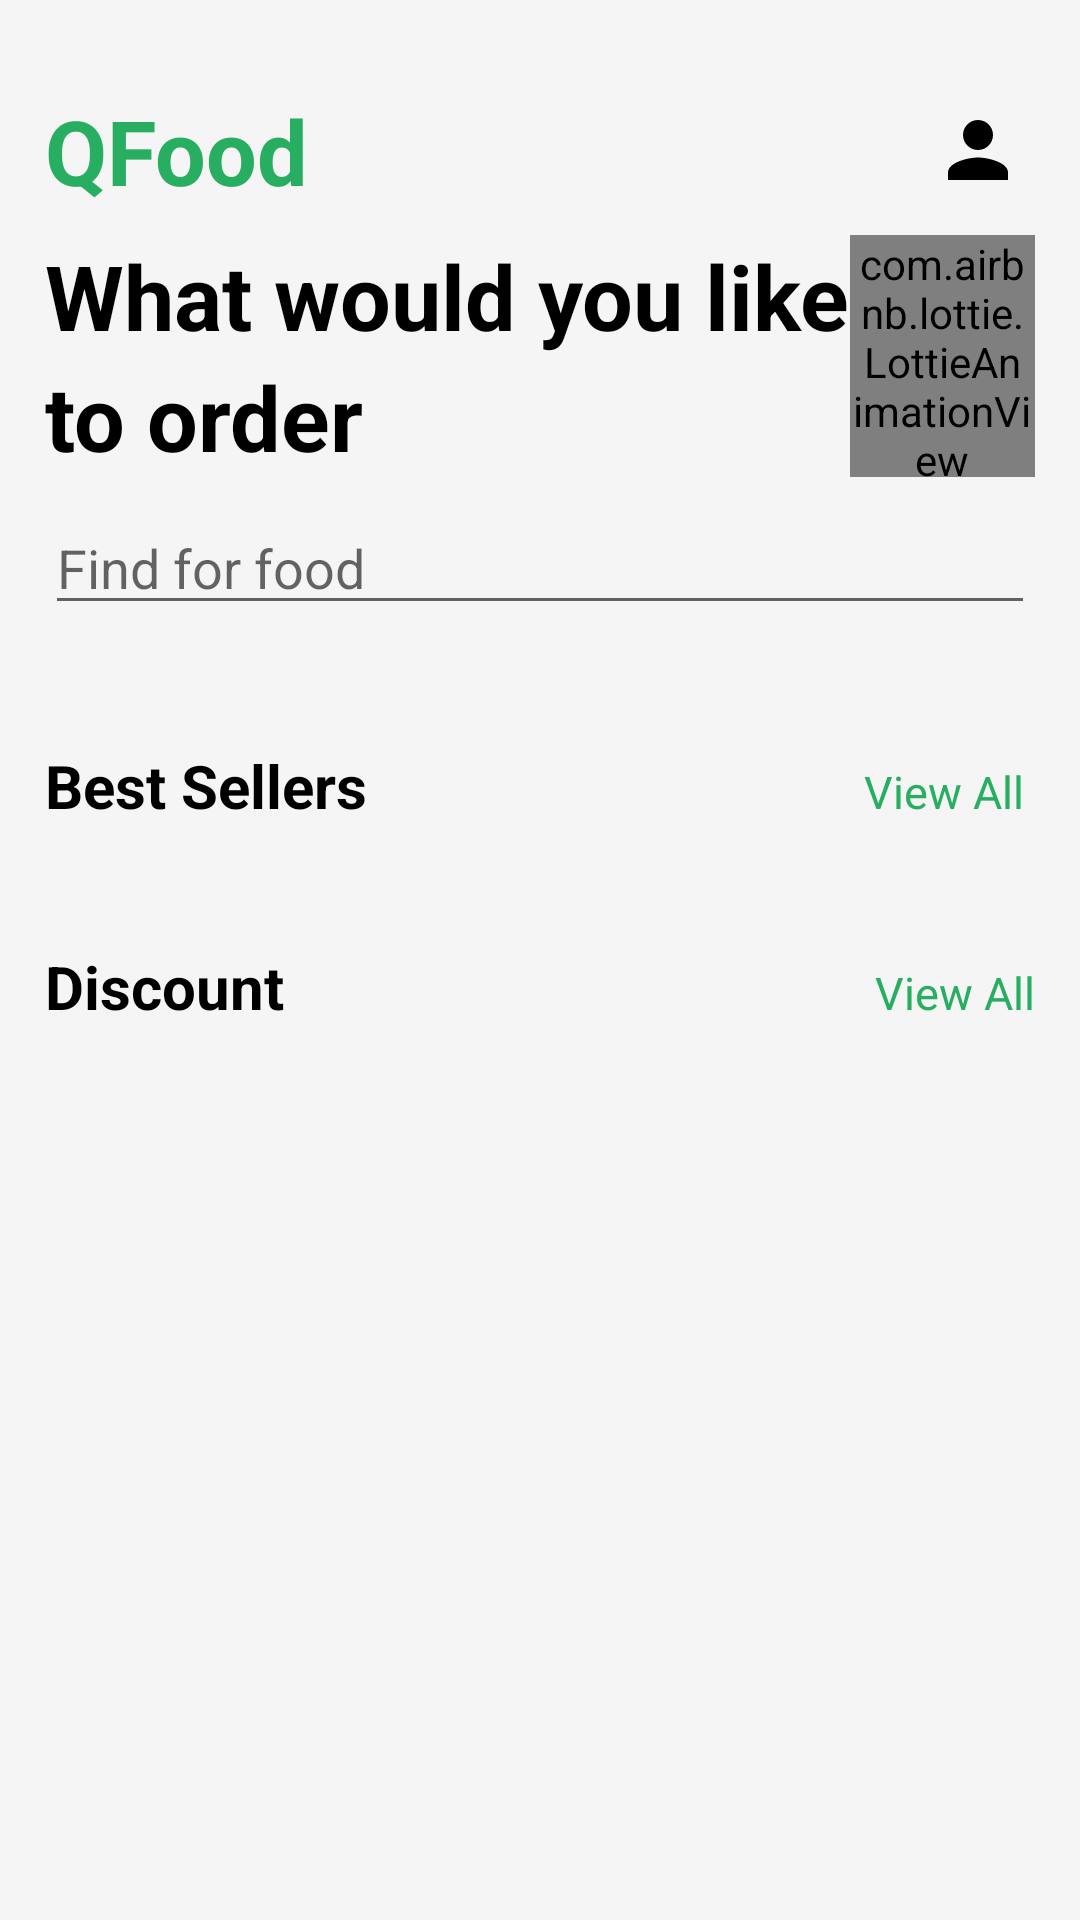

Where to tap for icons on this 1080w x 1920h app screen, as (x,y):
person: (978,150)
